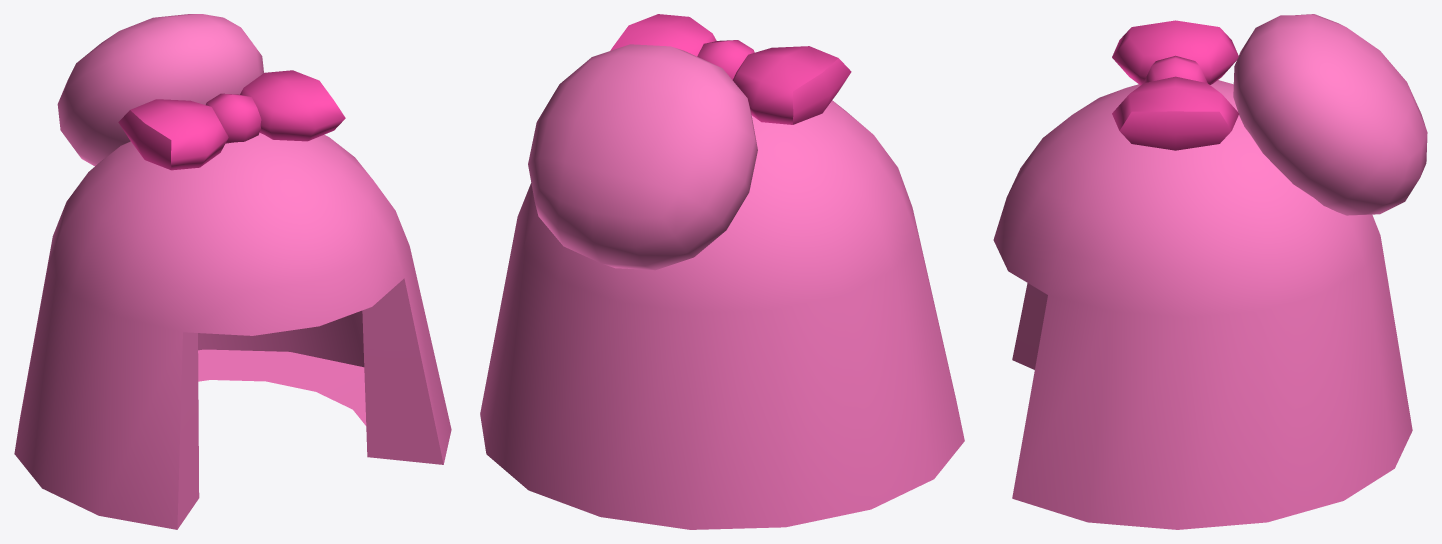
The model's file is Hair_09_C02.fbx.
3 views of the same model, side by side, from view 1: azimuth 30°, elevation 25°; view 2: azimuth 150°, elevation 25°; view 3: azimuth 270°, elevation 25° (orthographic). The views are drawn at different scales.
Parts seen in each view (by area): view 1: Hair_09_C02; view 2: Hair_09_C02; view 3: Hair_09_C02.
Boxes of the visible parts, x1,y1,x2,y2 form: Hair_09_C02: (14,14,451,529); Hair_09_C02: (480,14,964,529); Hair_09_C02: (993,14,1427,529).
Size of the model in its own units: 137 by 130 by 127.
